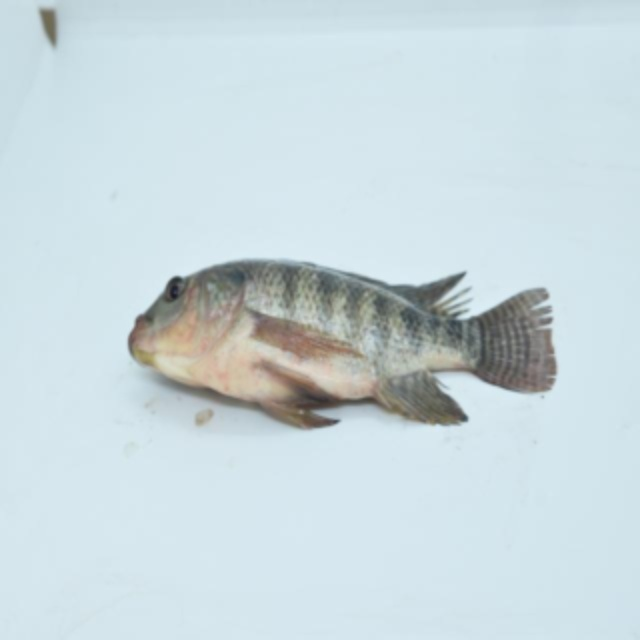Columnaris Disease: (110, 248, 582, 440)
